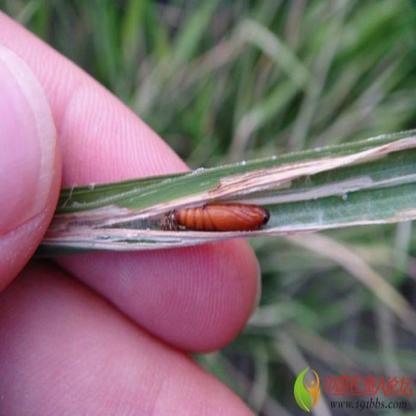leaf-folder: (166, 189, 274, 247)
